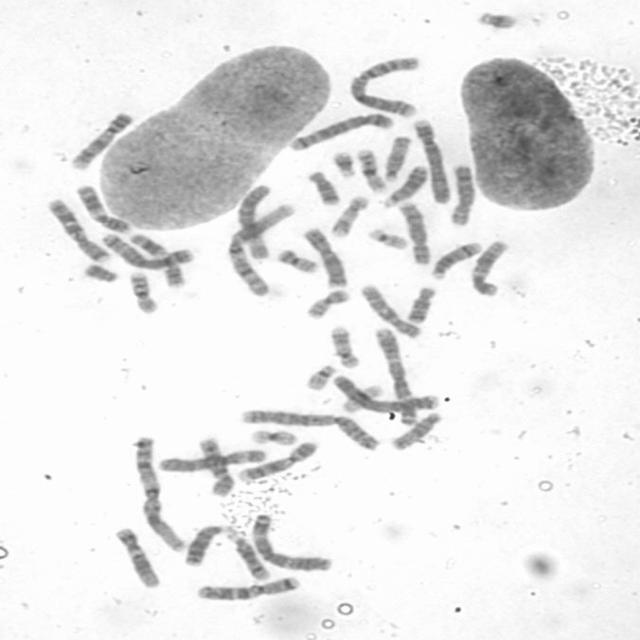A1: (131, 435, 190, 552), (226, 203, 296, 300)
A2: (240, 411, 380, 451), (347, 52, 428, 118)
A3: (248, 513, 333, 571), (375, 328, 420, 425)
B4: (332, 374, 441, 414), (412, 117, 452, 204)
B5: (287, 113, 395, 152), (100, 231, 194, 272)
C10: (356, 284, 421, 339), (197, 437, 236, 498)
C11: (129, 232, 187, 286), (74, 184, 132, 234)
C12: (111, 526, 161, 588), (469, 240, 509, 298)
C6: (234, 183, 274, 260), (158, 448, 265, 474)
C7: (46, 197, 110, 262), (198, 575, 301, 601)
C8: (396, 202, 434, 265), (450, 163, 477, 226)
C9: (68, 113, 134, 169), (236, 441, 318, 483)
D13: (381, 166, 429, 208), (182, 523, 227, 567)
D14: (224, 526, 271, 582), (430, 240, 484, 280)
D15: (387, 411, 442, 451), (382, 136, 411, 182)
E16: (355, 146, 386, 194), (129, 270, 159, 313)
E17: (328, 196, 370, 238), (330, 325, 361, 369)
E18: (306, 170, 343, 206), (407, 285, 437, 324)
F19: (342, 385, 385, 414), (251, 431, 297, 446)
F20: (304, 289, 350, 319), (276, 247, 318, 276)
G21: (476, 10, 516, 32), (333, 149, 356, 179)
G22: (304, 364, 336, 391), (369, 228, 410, 249)
X: (303, 227, 348, 288)
Y: (84, 262, 118, 284)
